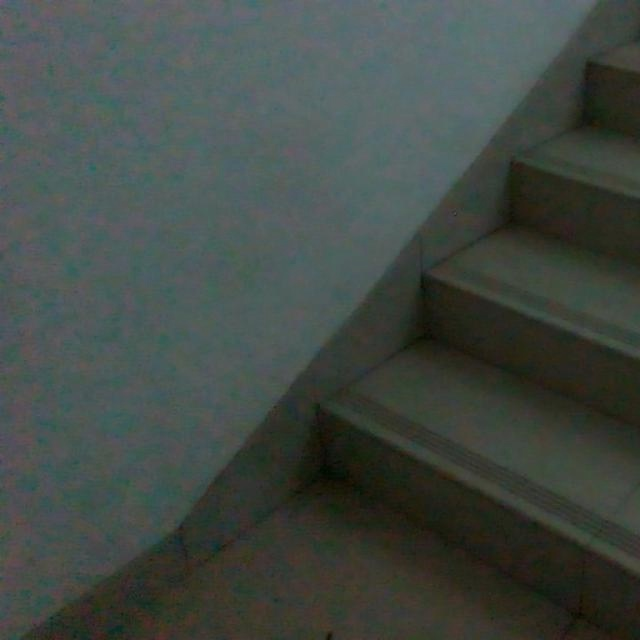stair: (328, 0, 640, 593)
